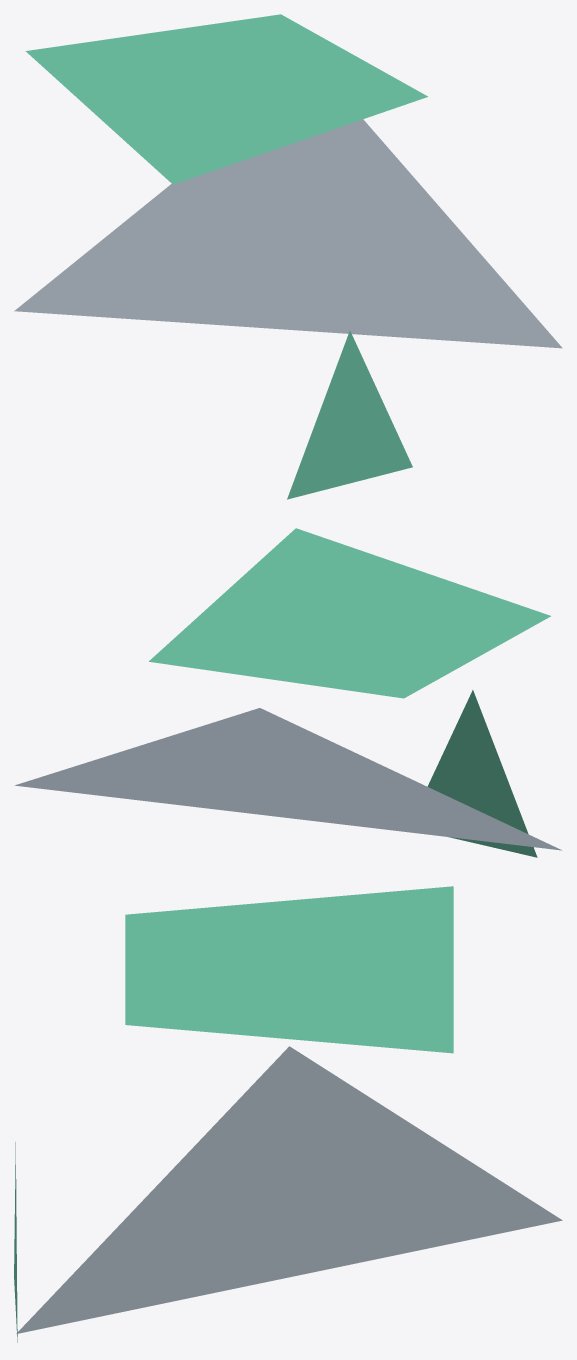
The model's file is CO_SuperweaponMatrix_LOD2.glb.
The picture shows the model from 3 angles, top to bottom: view 1: azimuth 30°, elevation 25°; view 2: azimuth 150°, elevation 25°; view 3: azimuth 270°, elevation 25°; orthographic projection. The views are drawn at different scales.
Visible parts, largest first — view 1: EntranceGate; view 2: EntranceGate; view 3: EntranceGate.
Part boxes in pixels (left/top/right/bottom): EntranceGate: left=14, top=14, right=562, bottom=499; EntranceGate: left=14, top=528, right=562, bottom=857; EntranceGate: left=14, top=886, right=562, bottom=1342.
Size of the model in its own units: 1000 by 717 by 1003.
